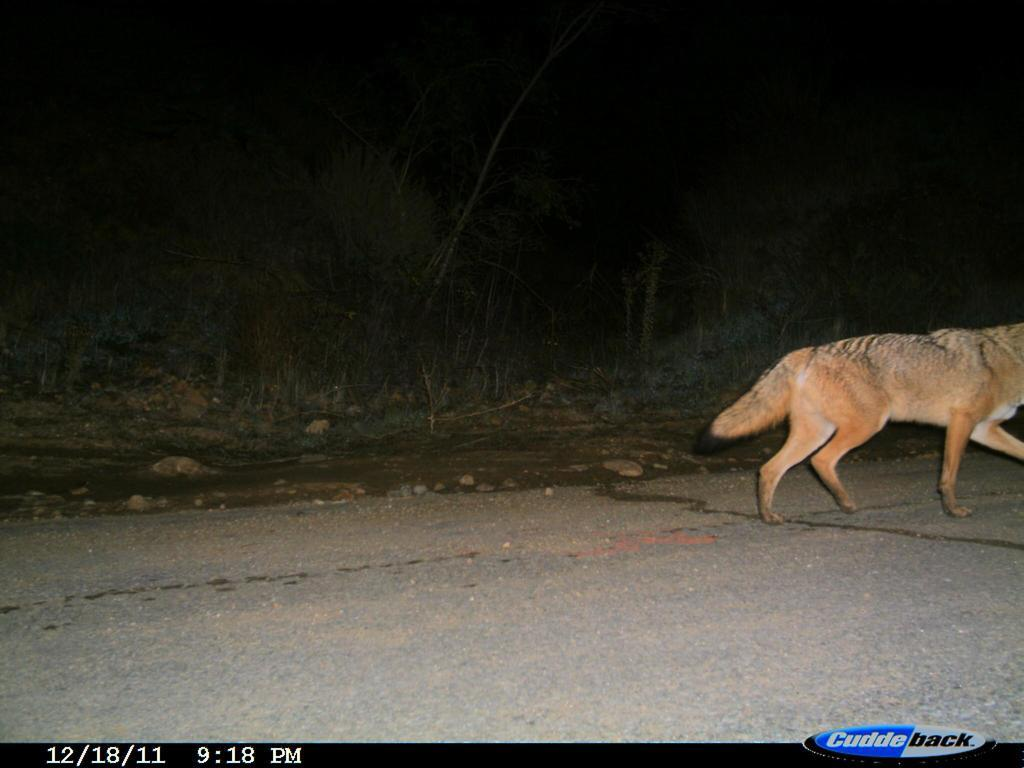coyote: (690, 306, 1019, 538)
